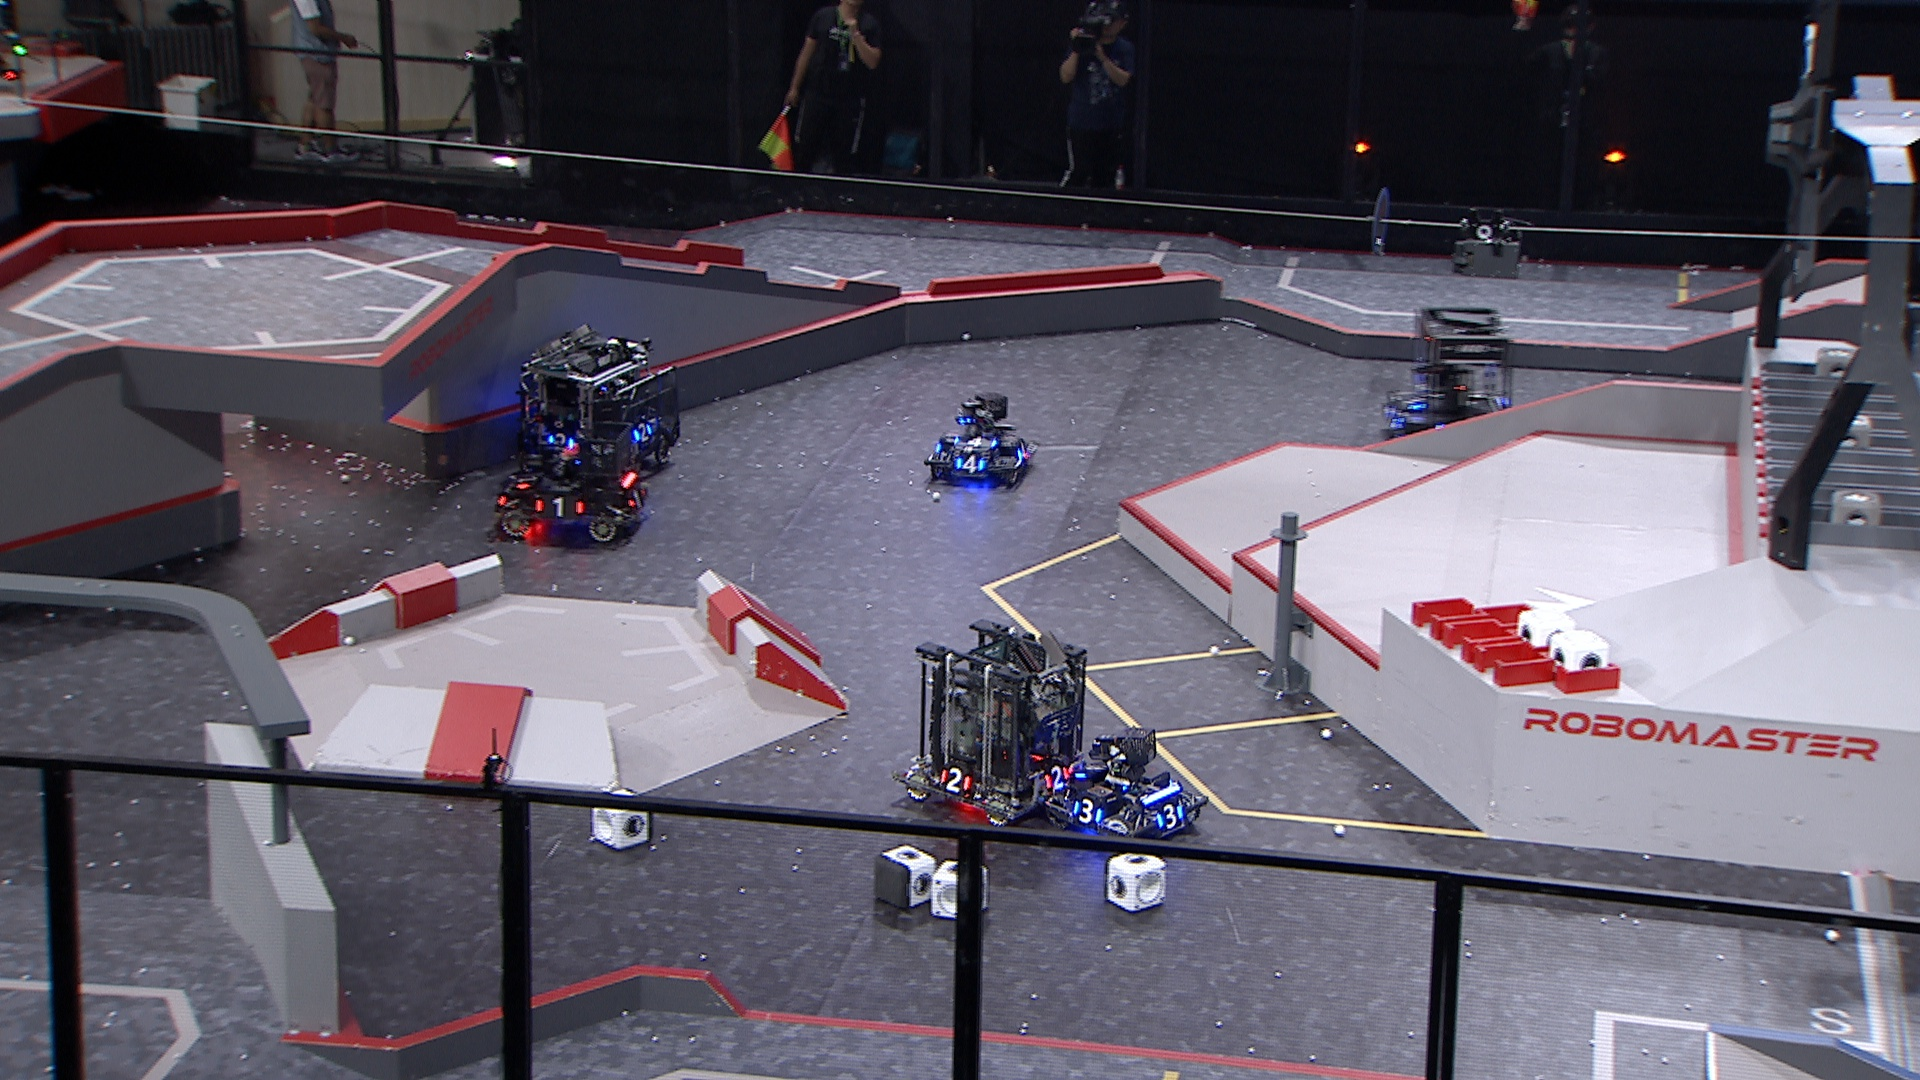armor: (534, 495, 588, 522), (1069, 794, 1106, 828), (939, 766, 975, 796), (1154, 803, 1188, 832), (953, 434, 1001, 451), (1043, 764, 1072, 790), (955, 455, 989, 476), (626, 487, 650, 513), (1400, 392, 1428, 414), (516, 471, 541, 493), (547, 433, 578, 450), (1385, 406, 1403, 433), (633, 423, 655, 444), (1015, 440, 1030, 463)
car: (891, 618, 1092, 825), (513, 327, 684, 469), (1044, 728, 1211, 849), (1381, 309, 1519, 442), (496, 438, 651, 543), (920, 390, 1040, 489)
